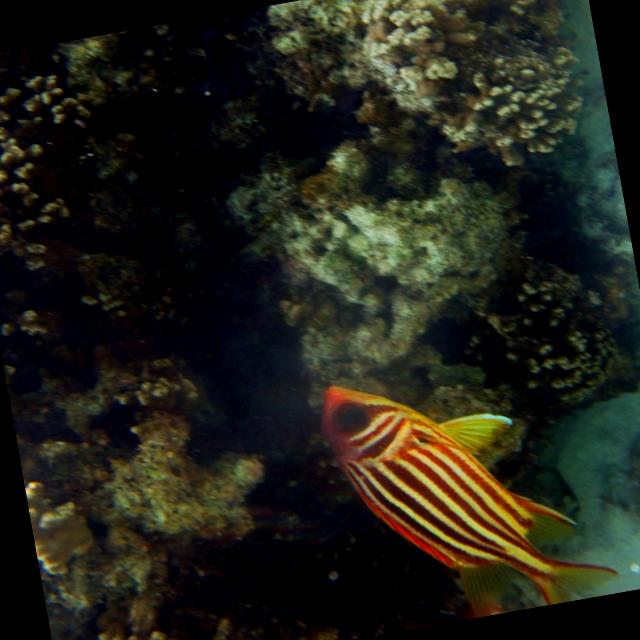Asker Baligi: (296, 329, 624, 640)
